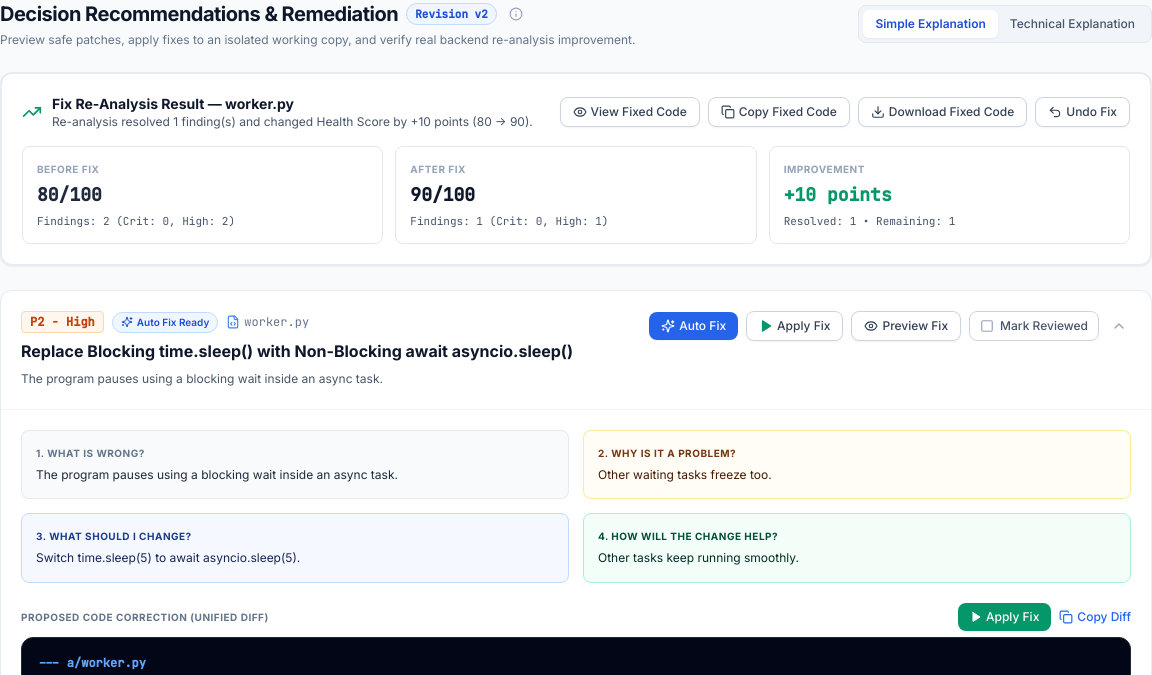
Frontend UI & Integration Suite (Tests A–F) › TEST B & C: RecommendationsView supports Simple/Technical toggle, Apply Fix vs Manual Fix Required, and Before/After comparison
The width and height of the screenshot is (1152, 675).
Later steps or results of the test are not shown.
Expected: the text "BEFORE FIX" is shown, [37,163,99,175]
Expected: the text "AFTER FIX" is shown, [410,163,466,175]
Step 1. Click the button "Technical Explanation" → (1072, 24), box [998,10,1147,38]
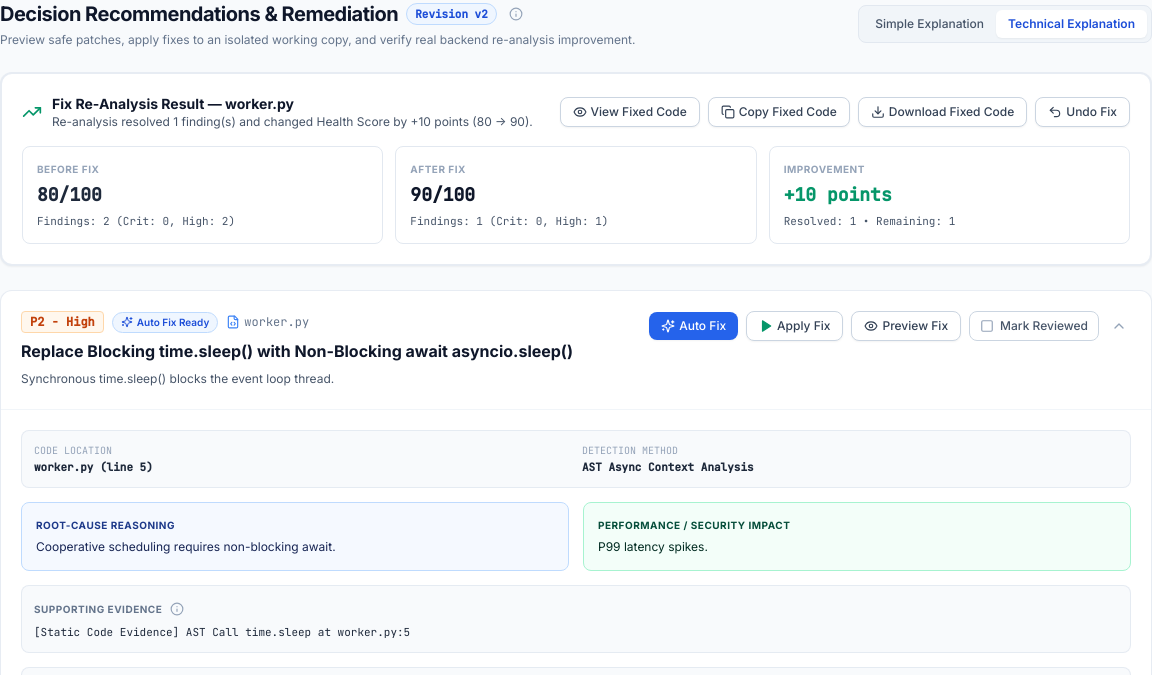
Now the text "worker.py (line 5)" is shown, box [34,460,153,474]
